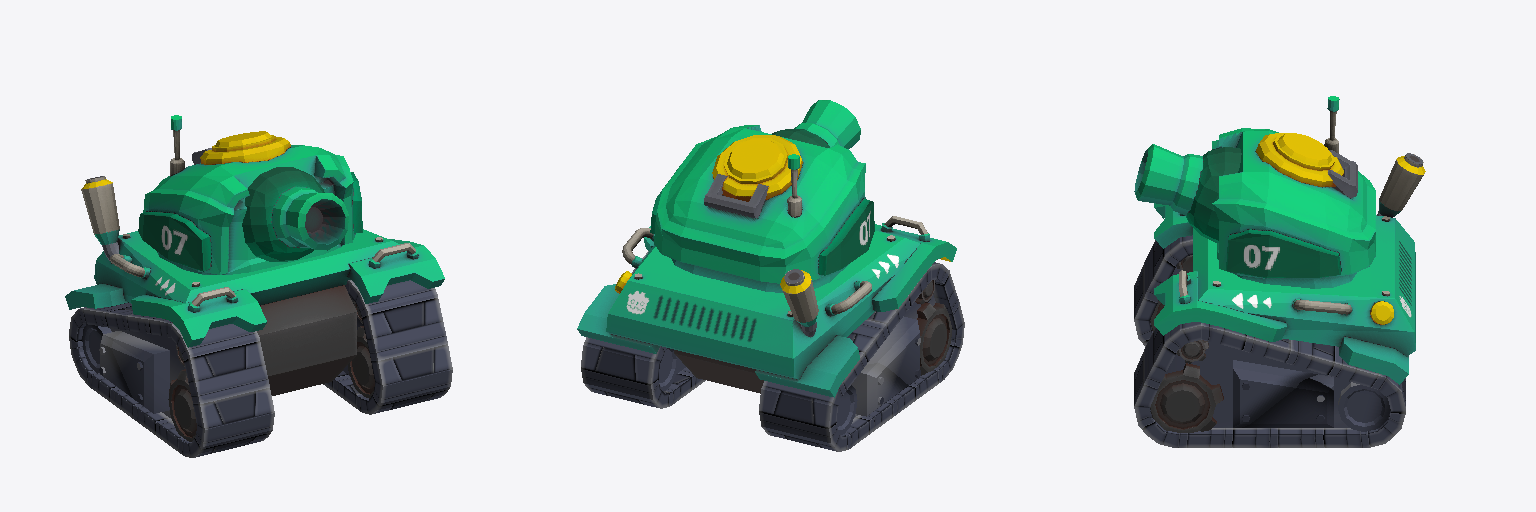
The picture shows the model from 3 angles: view 1: azimuth 30°, elevation 25°; view 2: azimuth 150°, elevation 25°; view 3: azimuth 270°, elevation 25°; orthographic projection.
Parts seen in each view (by area): view 1: Player_Tank_|_Hatch, Player_Tank_|_Track.Right, Player_Tank_|_Track.L; view 2: Player_Tank_|_Hatch, Player_Tank_|_Track.Right, Player_Tank_|_Track.L; view 3: Player_Tank_|_Hatch, Player_Tank_|_Track.L, Player_Tank_|_Track.Right.
Part boxes in pixels (x1,y1,x2,y2): Player_Tank_|_Hatch: (65,115,444,441); Player_Tank_|_Track.Right: (69,302,274,457); Player_Tank_|_Track.L: (323,280,452,414); Player_Tank_|_Hatch: (577,100,956,397); Player_Tank_|_Track.Right: (759,262,964,451); Player_Tank_|_Track.L: (581,251,705,408); Player_Tank_|_Hatch: (1134,96,1425,432); Player_Tank_|_Track.L: (1134,322,1405,447); Player_Tank_|_Track.Right: (1134,235,1192,346).
Bounding box in the file's own units: 1.45 × 1.36 × 1.36.
Materials: 3 (2 with a texture image).